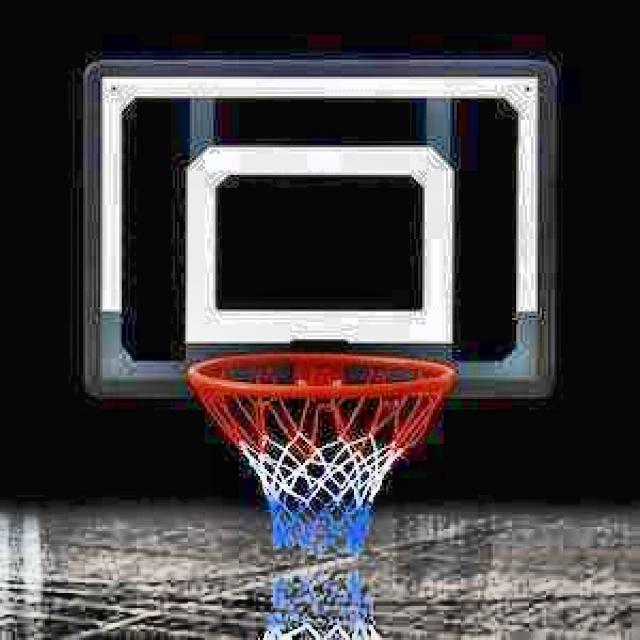rim: (189, 354, 455, 551)
